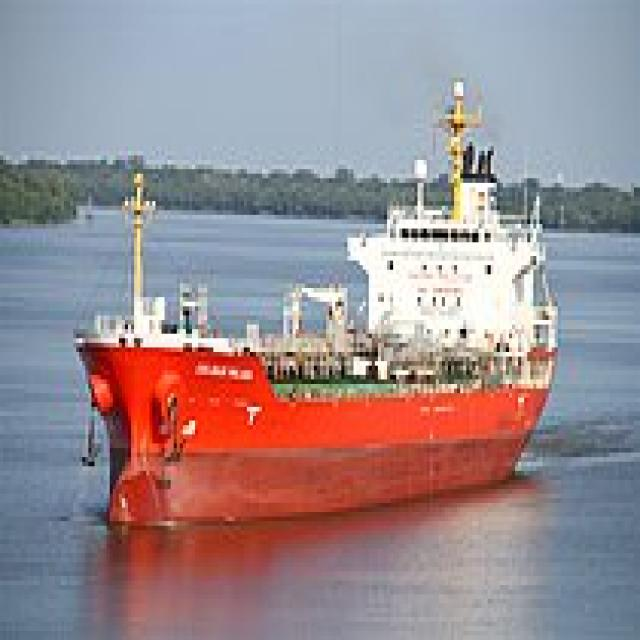Tanker: (70, 64, 558, 526)
